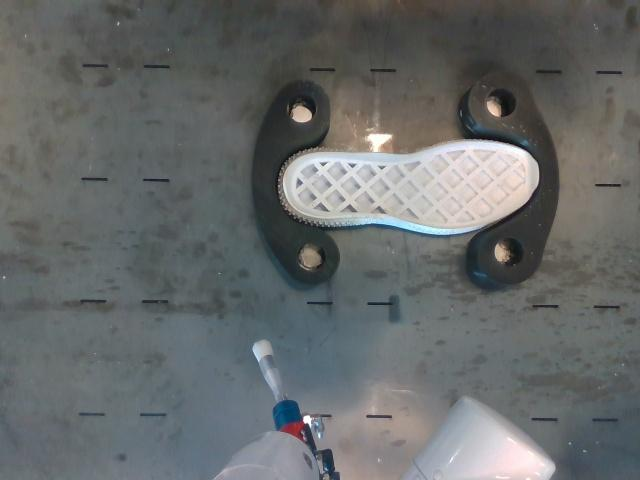shoes: (284, 142, 539, 229)
